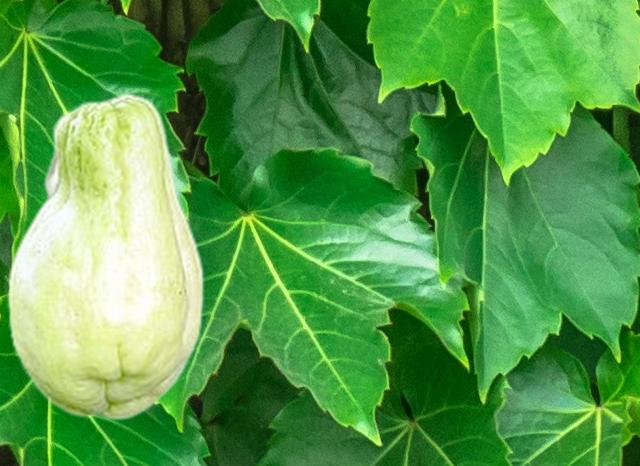sayote: (6, 92, 203, 420)
